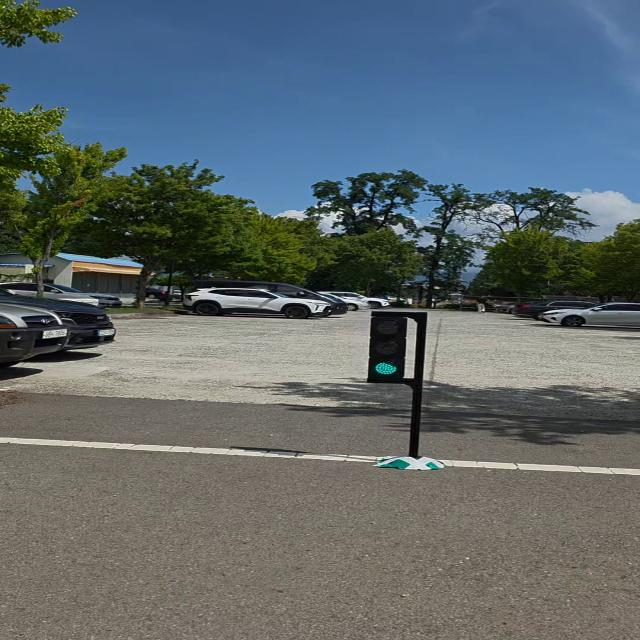green: (368, 309, 413, 383)
